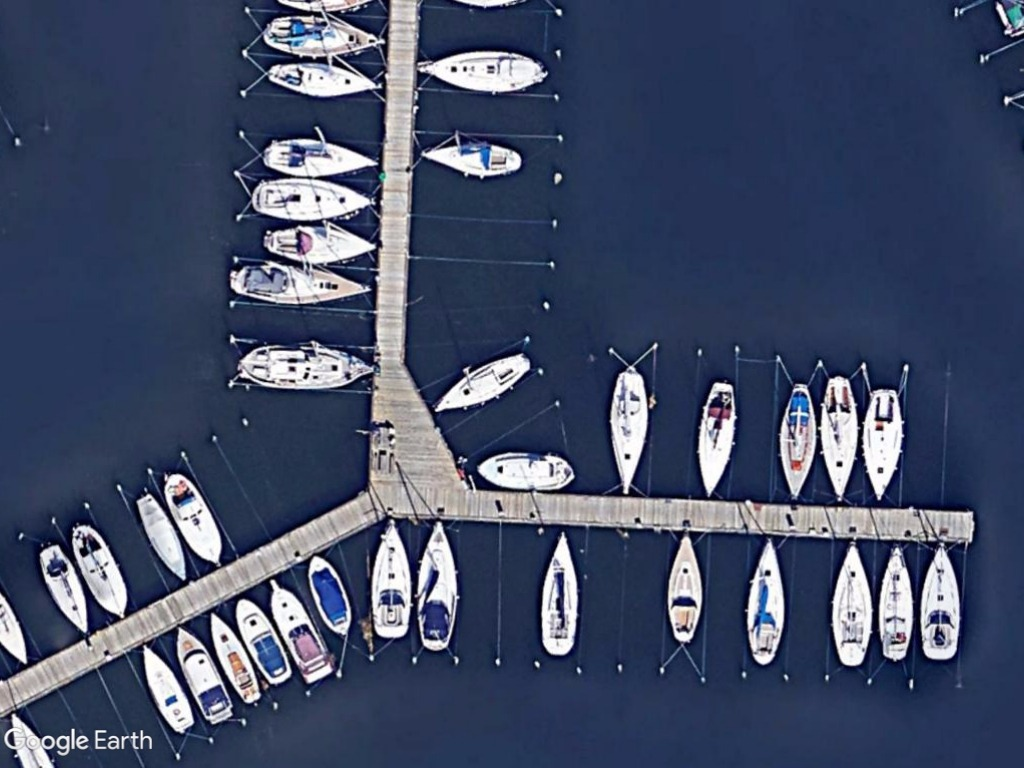boat: (223, 254, 384, 314), (228, 336, 378, 399), (260, 572, 338, 692), (428, 347, 539, 420), (414, 41, 552, 98), (159, 470, 234, 574), (411, 514, 465, 658), (532, 524, 587, 664), (259, 10, 395, 64), (69, 513, 135, 624), (242, 171, 380, 223), (825, 539, 877, 676), (265, 50, 391, 106), (133, 638, 203, 738), (166, 617, 233, 721), (740, 533, 789, 675), (198, 602, 266, 704), (362, 514, 415, 644), (602, 362, 651, 501), (228, 587, 294, 690), (873, 535, 923, 670), (689, 378, 743, 502), (771, 378, 821, 508), (260, 132, 384, 184), (916, 539, 966, 666), (814, 372, 860, 510), (858, 385, 909, 509), (129, 488, 193, 586), (32, 542, 95, 640), (414, 131, 528, 184), (258, 218, 385, 263), (661, 530, 707, 653), (474, 447, 581, 496), (303, 548, 353, 638)
